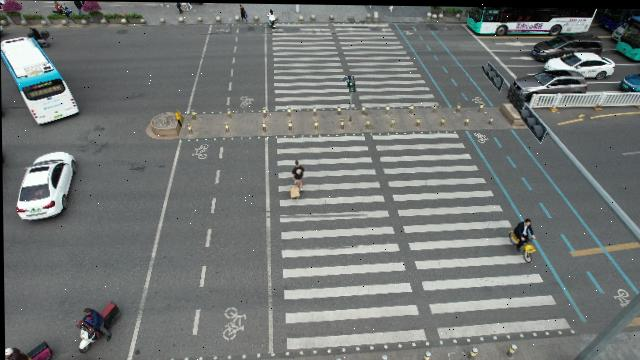non-motor-vehicle: (75, 300, 120, 342), (507, 215, 539, 265), (26, 28, 51, 49), (267, 10, 279, 29)
person: (285, 158, 309, 203), (239, 3, 247, 18)
